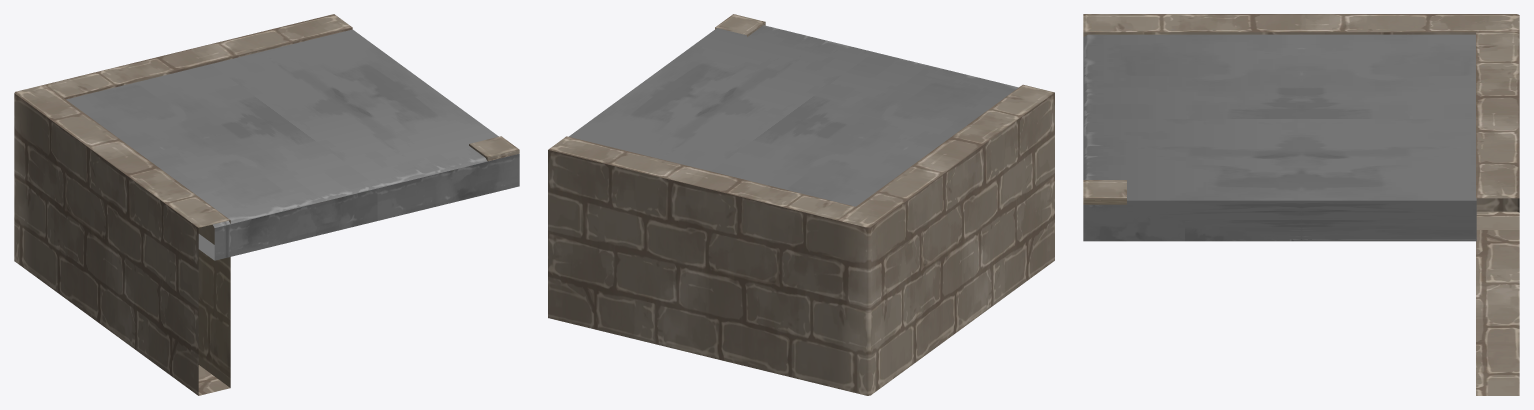
The model's file is Stairs_Exterior_Platform45.gltf.
3 renders of one model, left to right at view 1: azimuth 30°, elevation 25°; view 2: azimuth 150°, elevation 25°; view 3: azimuth 270°, elevation 25°, orthographic. The views are drawn at different scales.
Visible parts, largest first — view 1: Stairs_Exterior_Platform45; view 2: Stairs_Exterior_Platform45; view 3: Stairs_Exterior_Platform45.
Boxes of the visible parts, bbox=[...] form: Stairs_Exterior_Platform45: bbox=[14, 14, 519, 395]; Stairs_Exterior_Platform45: bbox=[548, 14, 1054, 395]; Stairs_Exterior_Platform45: bbox=[1083, 14, 1519, 395].
Bounding box in the file's own units: 2 × 1 × 2.
Materials: 2 (2 with a texture image).
